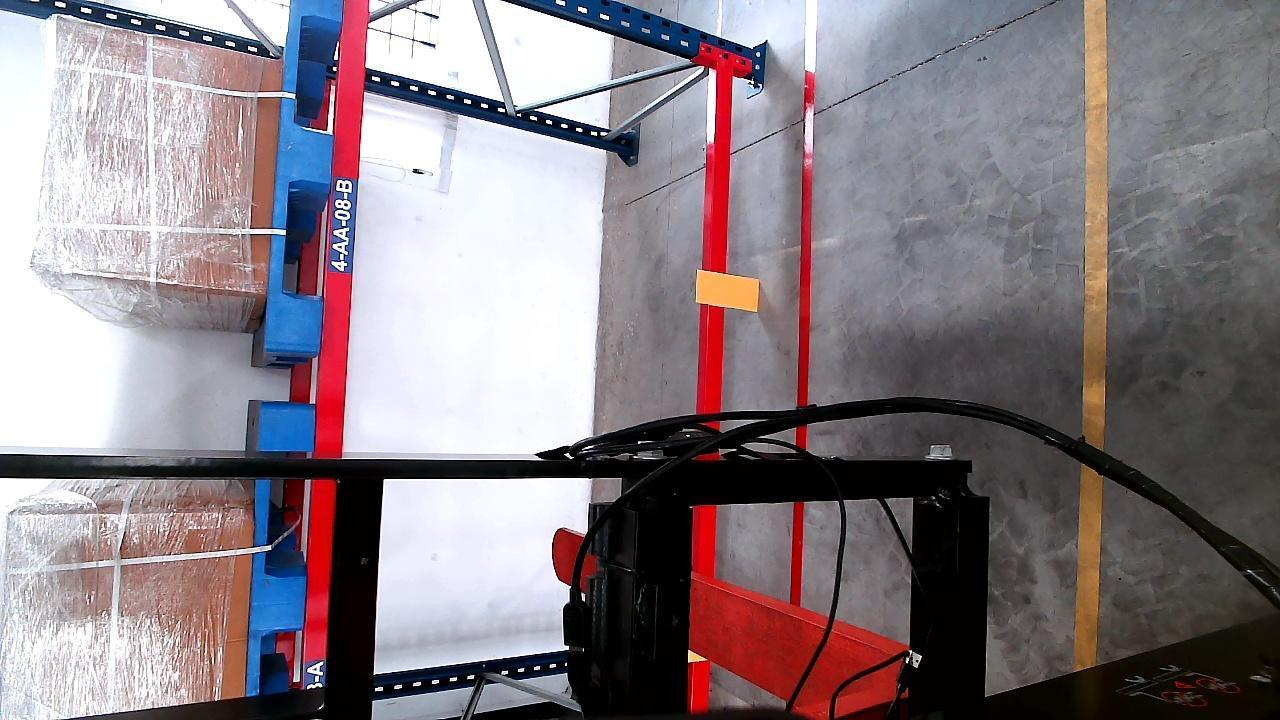h_rack: (305, 0, 370, 690), (692, 69, 732, 718)
orange_strip: (698, 271, 759, 308)
red_line: (791, 1, 821, 614)
small_pallet: (268, 0, 344, 355), (248, 415, 315, 690)
yellow_line: (1077, 0, 1115, 667)
